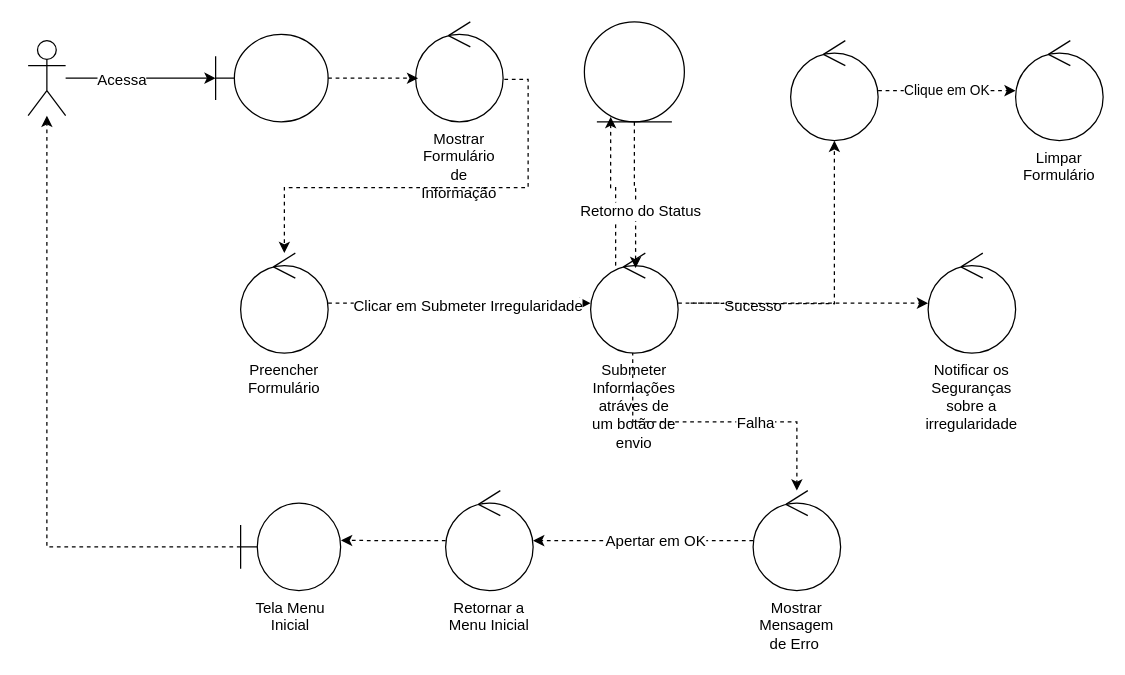
Image size: 1125x675. Some labels were removed from this diagram. The shapes that lost their labels are listed below. From the top down, each one's centre as x and y in pixels, then its label:
[46,77]: Usuário
[271,77]: Tela de Reportar Irregularidade
[633,71]: Banco de Dados Irregularidades
[833,90]: Mostrar mensagem "Reportado com sucesso" e um Botão "Ok"
